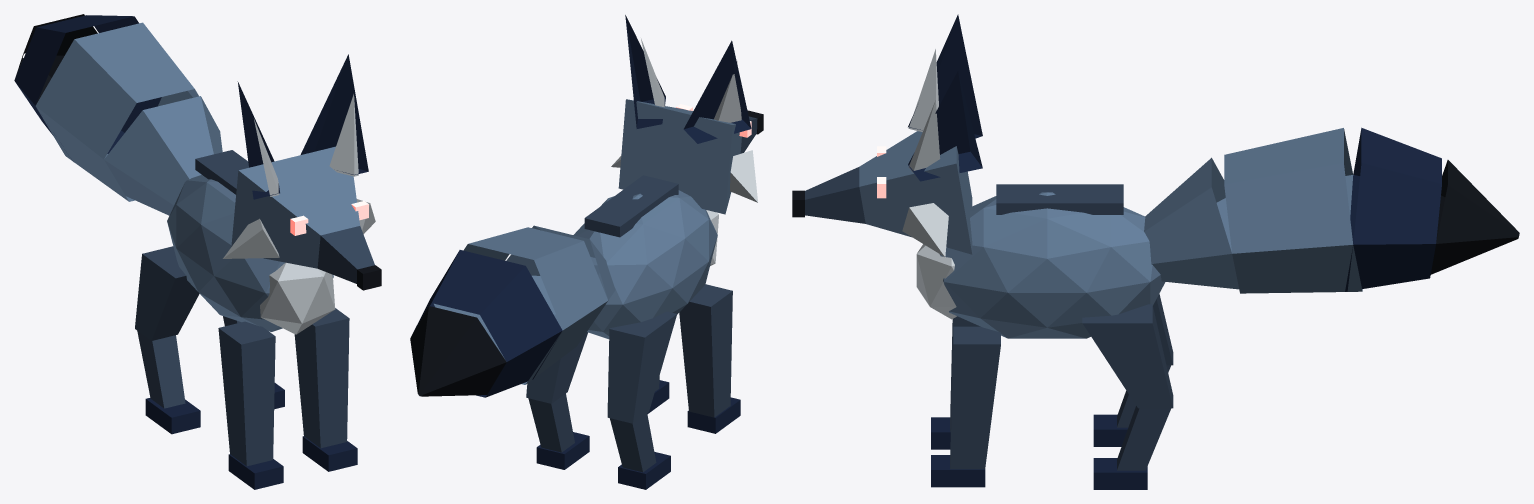
The model's file is scout.glb.
3 renders of one model, left to right at view 1: azimuth 30°, elevation 25°; view 2: azimuth 150°, elevation 25°; view 3: azimuth 270°, elevation 25°, orthographic. The views are drawn at different scales.
Visible parts, largest first — view 1: IScoutHull, IScoutGlow; view 2: IScoutHull; view 3: IScoutHull.
Part boxes in pixels (x1,y1,x2,y2): IScoutHull: [14, 14, 381, 489]; IScoutGlow: [290, 201, 368, 235]; IScoutHull: [410, 15, 763, 489]; IScoutHull: [792, 14, 1519, 489].
Bounding box in the file's own units: 0.58 × 1.45 × 2.28.
